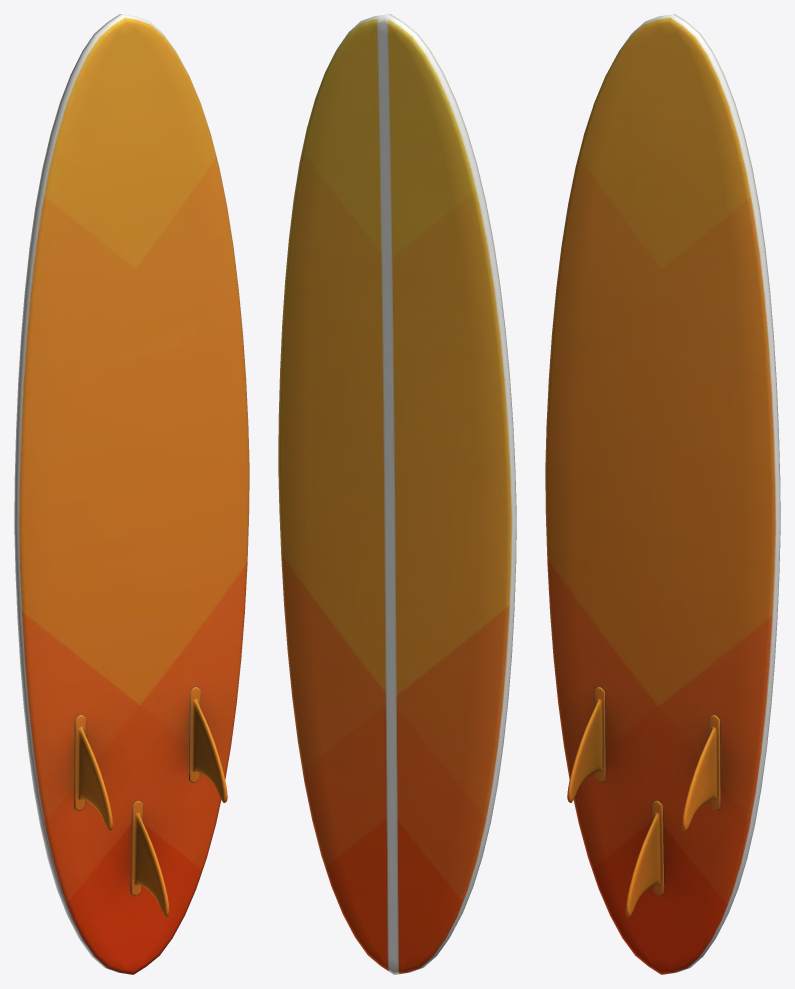
File: surfboard_1.glb
3 renders of one model, left to right at view 1: azimuth 30°, elevation 25°; view 2: azimuth 150°, elevation 25°; view 3: azimuth 330°, elevation 25°, orthographic.
Parts seen in each view (by area): view 1: Surfboard_01_Surfboard_01_0; view 2: Surfboard_01_Surfboard_01_0; view 3: Surfboard_01_Surfboard_01_0.
Part boxes in pixels (x1,y1,x2,y2): Surfboard_01_Surfboard_01_0: (14, 14, 249, 974); Surfboard_01_Surfboard_01_0: (278, 14, 516, 974); Surfboard_01_Surfboard_01_0: (545, 14, 780, 974).
Size of the model in its own units: 0.5089 by 1.99 by 0.1881.
1 material, 1 textured.
